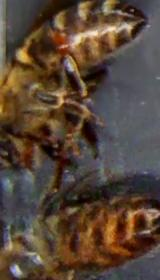varroa_mite: (40, 18, 80, 58)
